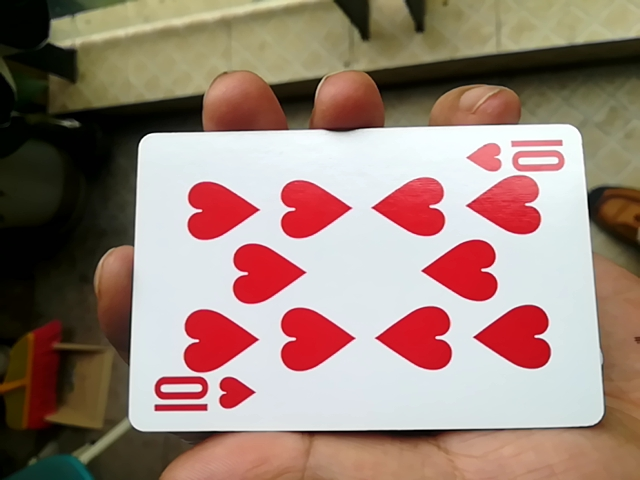hx 10: (118, 130, 593, 448)
